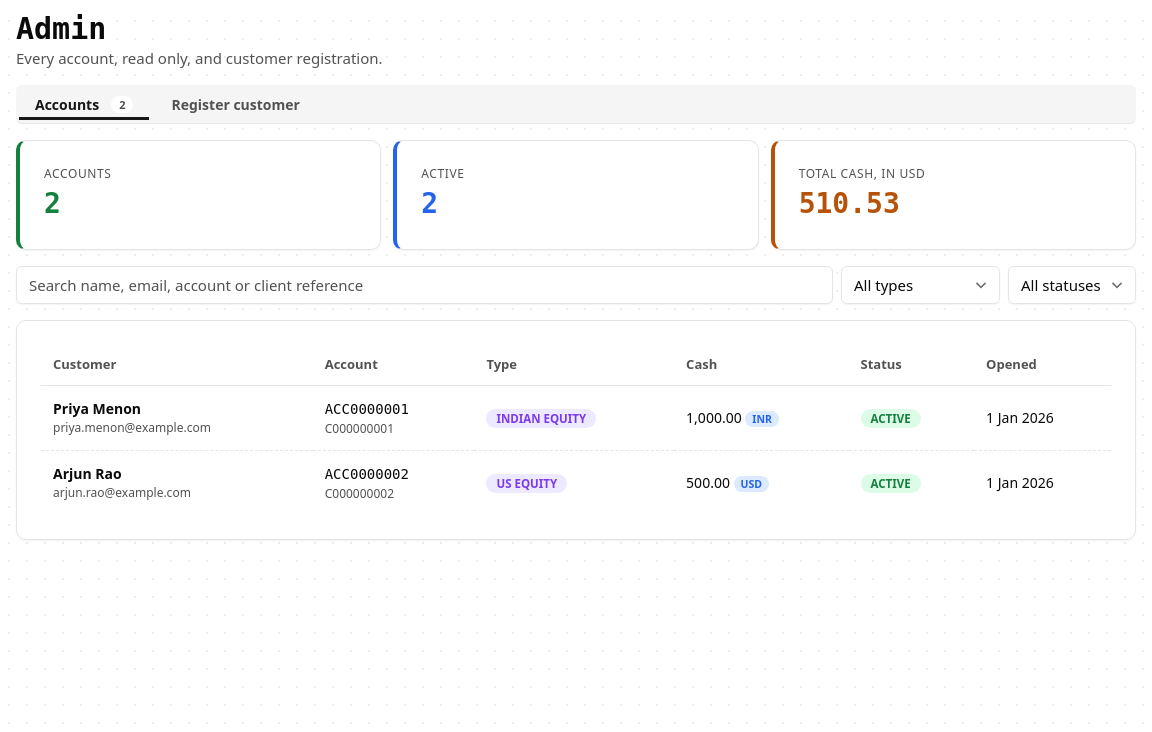
Test: AdminDashboardComponent › filters by search text and account type
Type "arjun" into the search field with placeholder "Search name, email, account or client reference" at (424, 285), box [16,266,833,304]
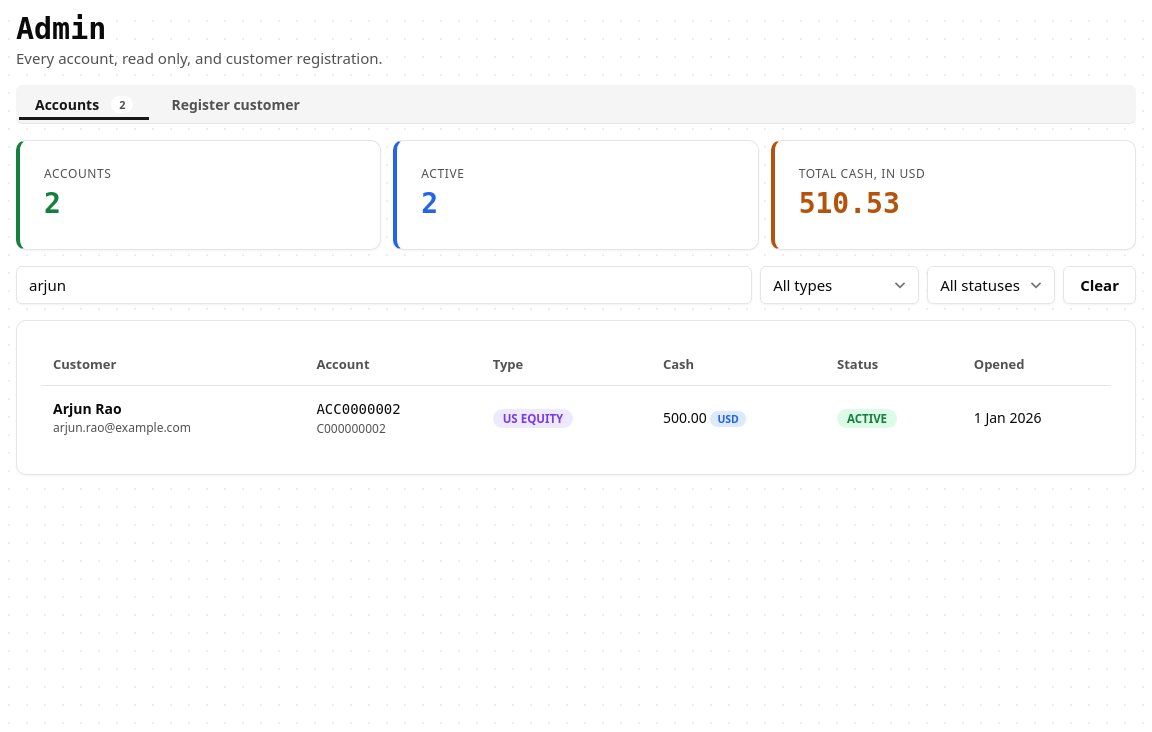
Result: the number of rows with test id "admin-row" is 1 at [41,385,1111,450]
Clear the search field at (384, 285), box [16,266,752,304]
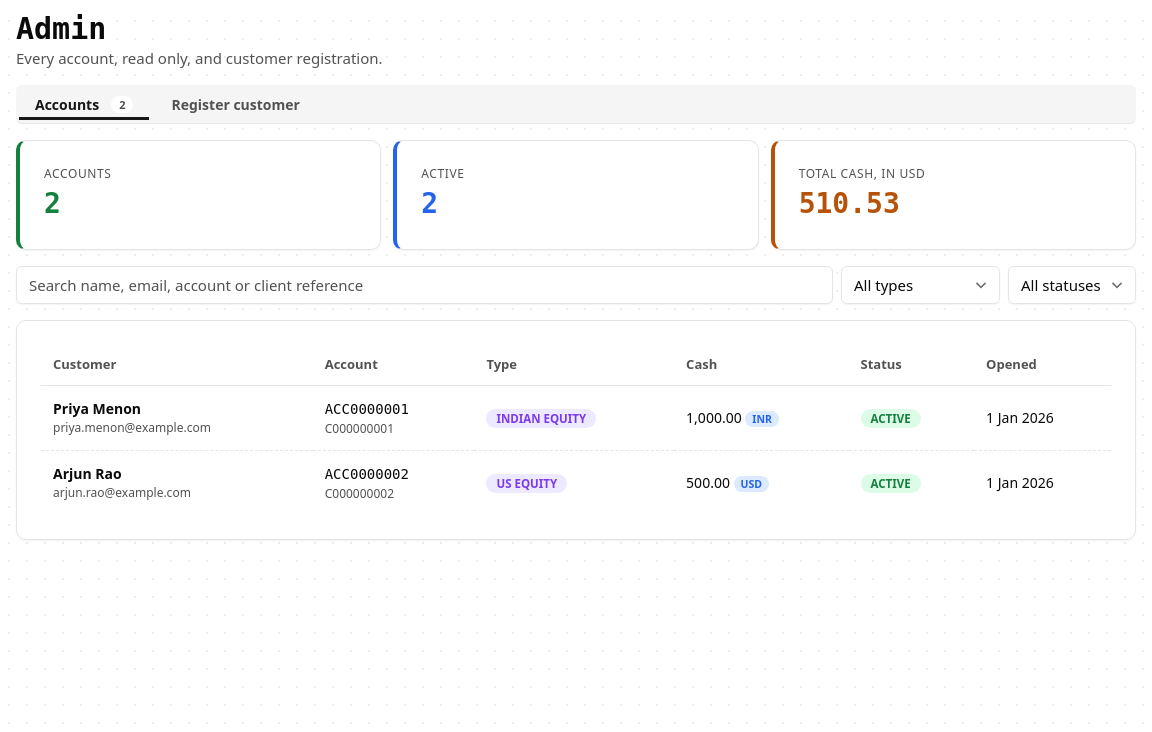
Select "INDIAN EQUITY" in the dropdown named "Account type" at (920, 285), box [841,266,1000,304]
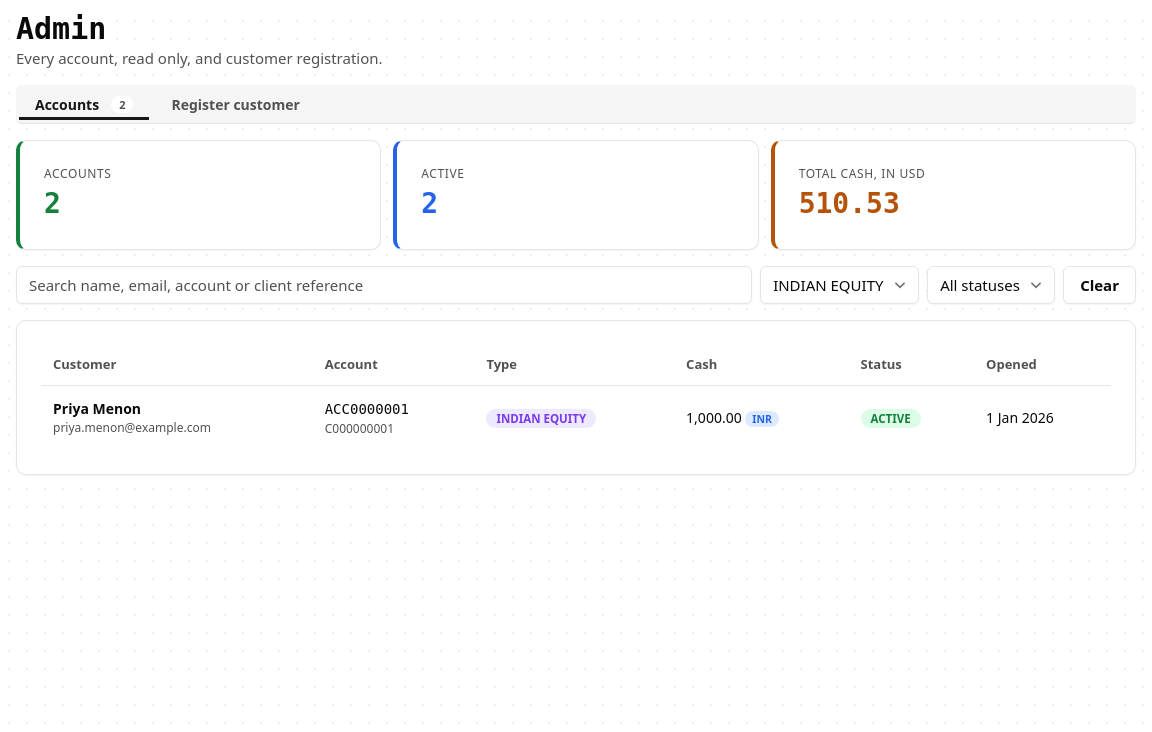
Result: the text "Priya Menon" is shown at [53,399,141,418]
Result: the number of rows with test id "admin-row" is 1 at [41,385,1111,450]
